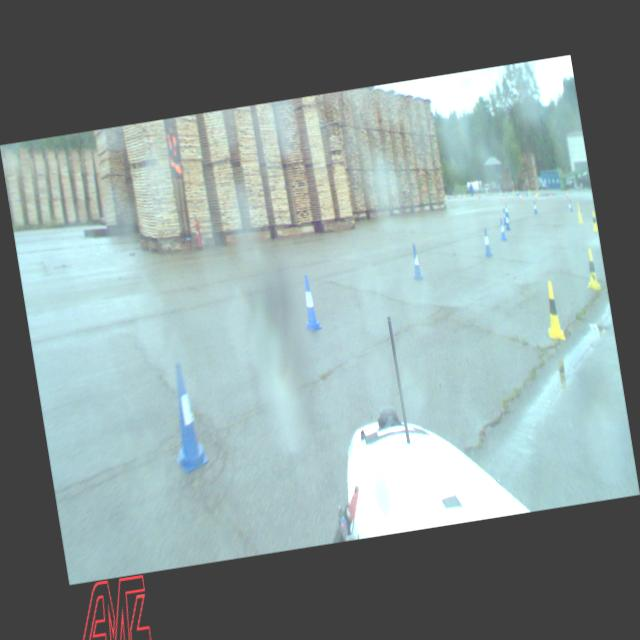blue_cone: (162, 362, 210, 474), (298, 274, 322, 332), (408, 243, 424, 281), (482, 228, 492, 257), (498, 218, 507, 241), (504, 215, 511, 230), (502, 210, 507, 225), (532, 202, 538, 214), (568, 200, 573, 212), (504, 205, 509, 217)
yellow_cone: (540, 280, 565, 342), (582, 248, 601, 290), (590, 212, 598, 232), (576, 206, 584, 224)
